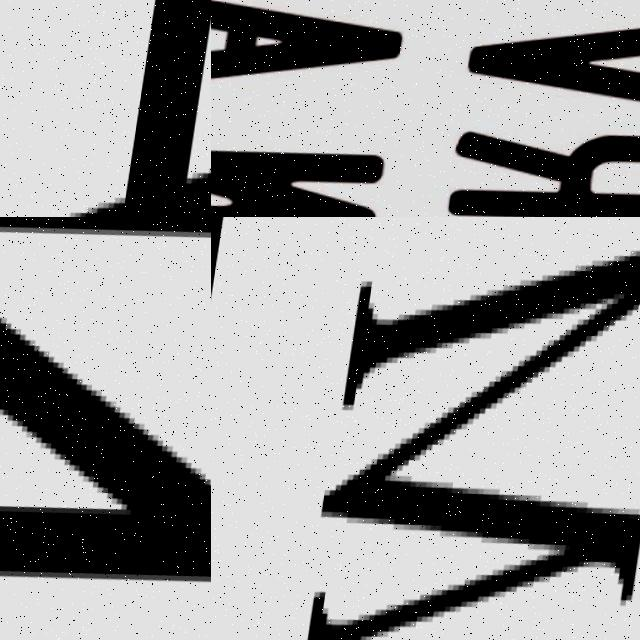A: (0, 0, 211, 217), (211, 0, 410, 112)
M: (267, 217, 640, 640)
N: (0, 217, 211, 640), (211, 133, 391, 217)
R: (450, 121, 640, 217)
V: (462, 0, 640, 141)
